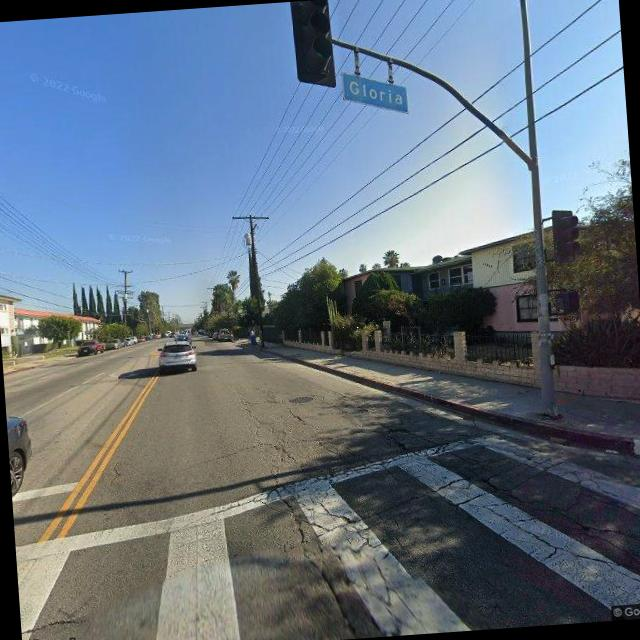crack: (228, 363, 640, 640)
